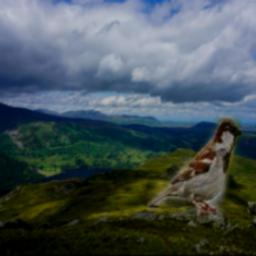Sparrow: (147, 117, 241, 219)
